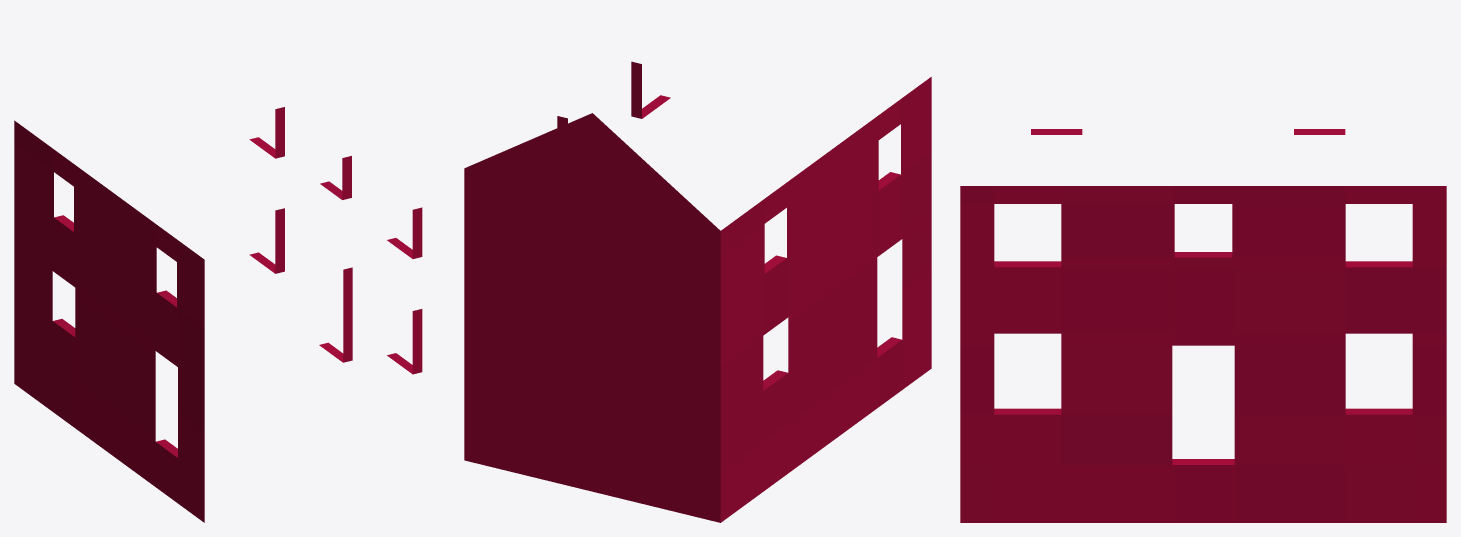
File: SM_Bld_134_Masonry.glb
3 views of the same model, side by side, from view 1: azimuth 30°, elevation 25°; view 2: azimuth 150°, elevation 25°; view 3: azimuth 270°, elevation 25° (orthographic). The views are drawn at different scales.
Parts seen in each view (by area): view 1: SM_Bld_134_Masonry; view 2: SM_Bld_134_Masonry; view 3: SM_Bld_134_Masonry.
Part boxes in pixels (x1,y1,x2,y2): SM_Bld_134_Masonry: [14, 107, 422, 522]; SM_Bld_134_Masonry: [464, 61, 931, 522]; SM_Bld_134_Masonry: [960, 129, 1446, 522].
Bounding box in the file's own units: 5.33 × 7.52 × 7.59.
